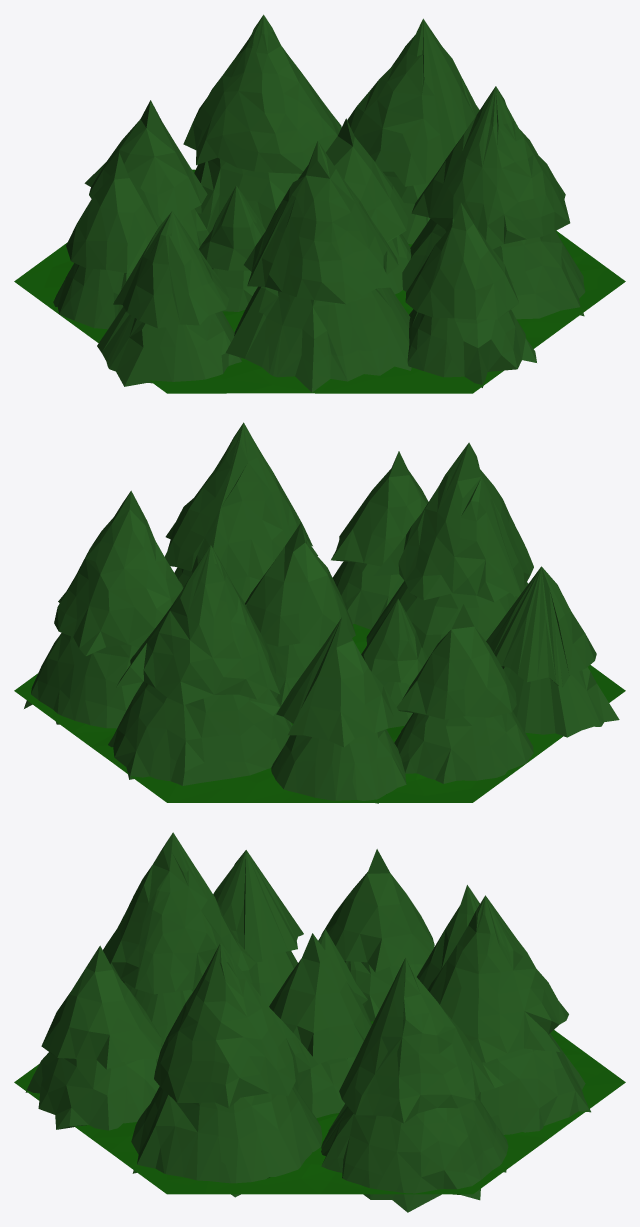
Rendered from forest.gltf.
3 renders of one model, top to bottom at view 1: azimuth 30°, elevation 25°; view 2: azimuth 150°, elevation 25°; view 3: azimuth 270°, elevation 25°, orthographic.
Visible parts, largest first — view 1: iglak.133, iglak.141, iglak.144, iglak.135, iglak.137, iglak.145, Circle, iglak.146, iglak.138, iglak.142, iglak.139; view 2: iglak.144, iglak.145, iglak.133, iglak.138, iglak.146, iglak.135, iglak.141, Circle, iglak.142, iglak.137, iglak.139; view 3: iglak.141, iglak.145, iglak.144, iglak.137, iglak.133, Circle, iglak.142, iglak.146, iglak.135, iglak.138, iglak.139.
Part boxes in pixels (box(x1,y1,x2,y2)): iglak.133: box(225, 141, 411, 392); iglak.141: box(402, 86, 585, 319); iglak.144: box(183, 14, 341, 233); iglak.135: box(97, 211, 241, 386); iglak.137: box(405, 202, 536, 387); iglak.145: box(347, 18, 479, 244); Circle: box(14, 169, 625, 393); iglak.146: box(53, 153, 162, 329); iglak.138: box(84, 100, 209, 248); iglak.142: box(326, 118, 411, 294); iglak.139: box(199, 185, 265, 311); iglak.144: box(108, 545, 292, 785); iglak.145: box(24, 490, 183, 728); iglak.133: box(366, 442, 533, 658); iglak.138: box(271, 617, 406, 803); iglak.146: box(394, 604, 533, 783); iglak.135: box(486, 566, 619, 737); iglak.141: box(165, 422, 317, 602); Circle: box(14, 624, 625, 802); iglak.142: box(245, 522, 355, 705); iglak.137: box(331, 451, 428, 629); iglak.139: box(361, 599, 427, 728); iglak.141: box(131, 943, 322, 1197); iglak.145: box(321, 958, 508, 1212); iglak.144: box(428, 895, 590, 1134); iglak.137: box(25, 945, 161, 1130); iglak.133: box(103, 832, 255, 1046); Circle: box(14, 1021, 625, 1194); iglak.142: box(269, 933, 371, 1118); iglak.146: box(321, 849, 434, 1021); iglak.135: box(213, 850, 303, 1006); iglak.138: box(417, 885, 479, 989); iglak.139: box(318, 929, 367, 1003).
Size of the model in its own units: 1.82 by 0.8253 by 2.
